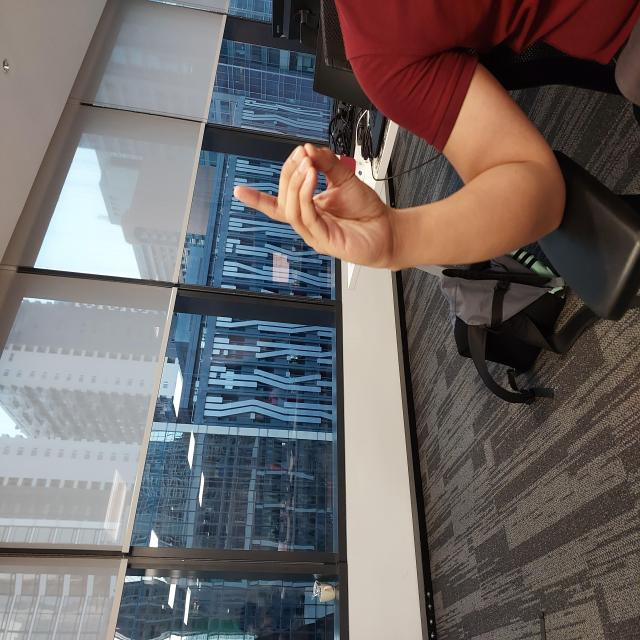D: (371, 232, 502, 397)
